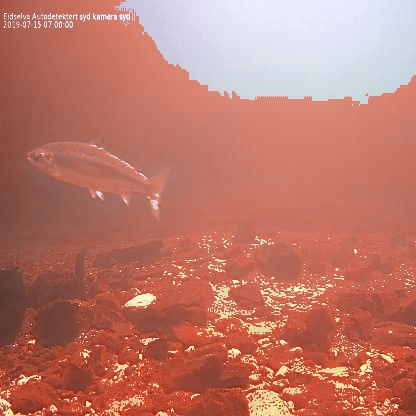salmon: (24, 132, 173, 222)
